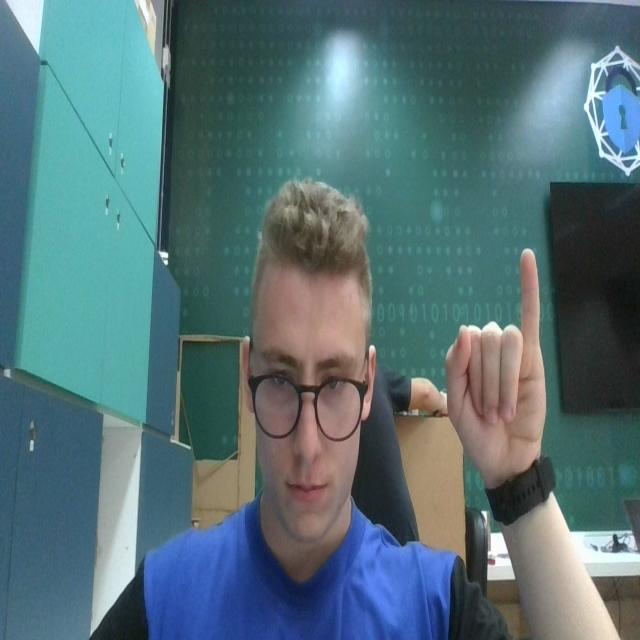I: (443, 245, 549, 471)
